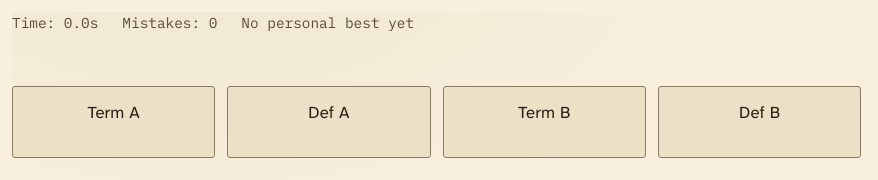
MatchSession › marks two tiles matched when they share a card, and announces it via the feedback status
The width and height of the screenshot is (878, 180).
Click the button "Term A". click: (114,122)
box: top-left (12, 86), bottom-right (215, 158)
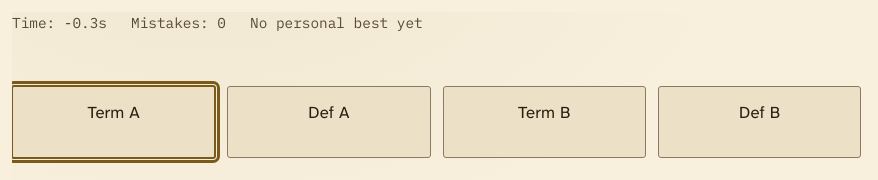
Click the button "Def A". click: (329,122)
box: top-left (227, 86), bottom-right (431, 158)
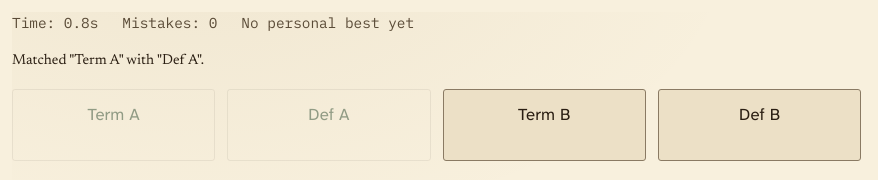
Expected: the text "Matched \"Term A\" with \"Def A\"." is shown, top-left (12, 53), bottom-right (204, 68)
Expected: the button "Term A" is disabled, top-left (12, 89), bottom-right (215, 161)
Expected: the button "Def A" is disabled, top-left (227, 89), bottom-right (431, 161)
